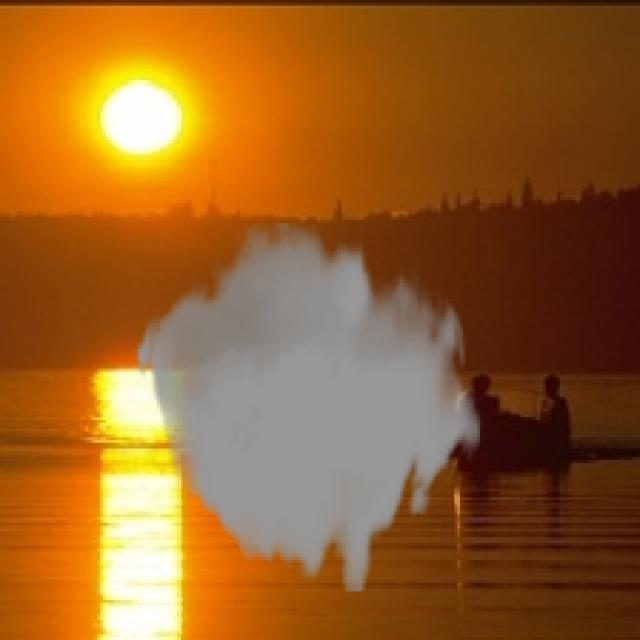smoke: (134, 223, 483, 591)
